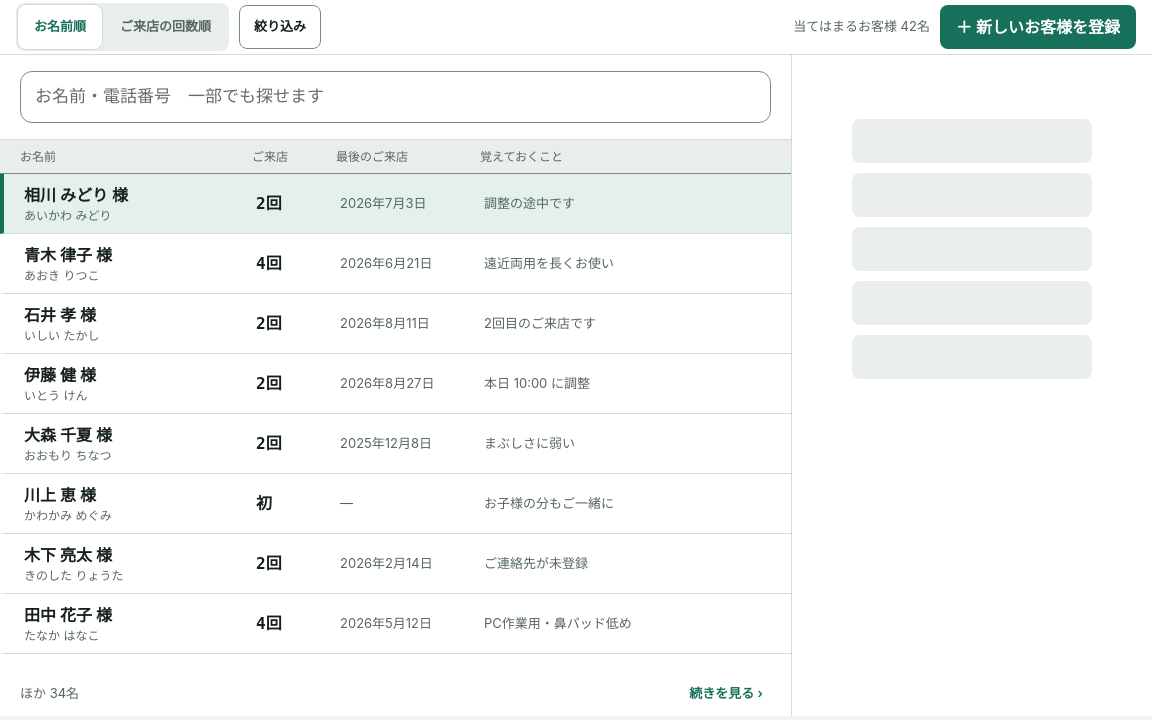
検索 › 「1234」では残らない
Type "1234" into the search field named "お名前・電話番号　一部でも探せます" at x=396, y=97, box 20,71 -> 771,123
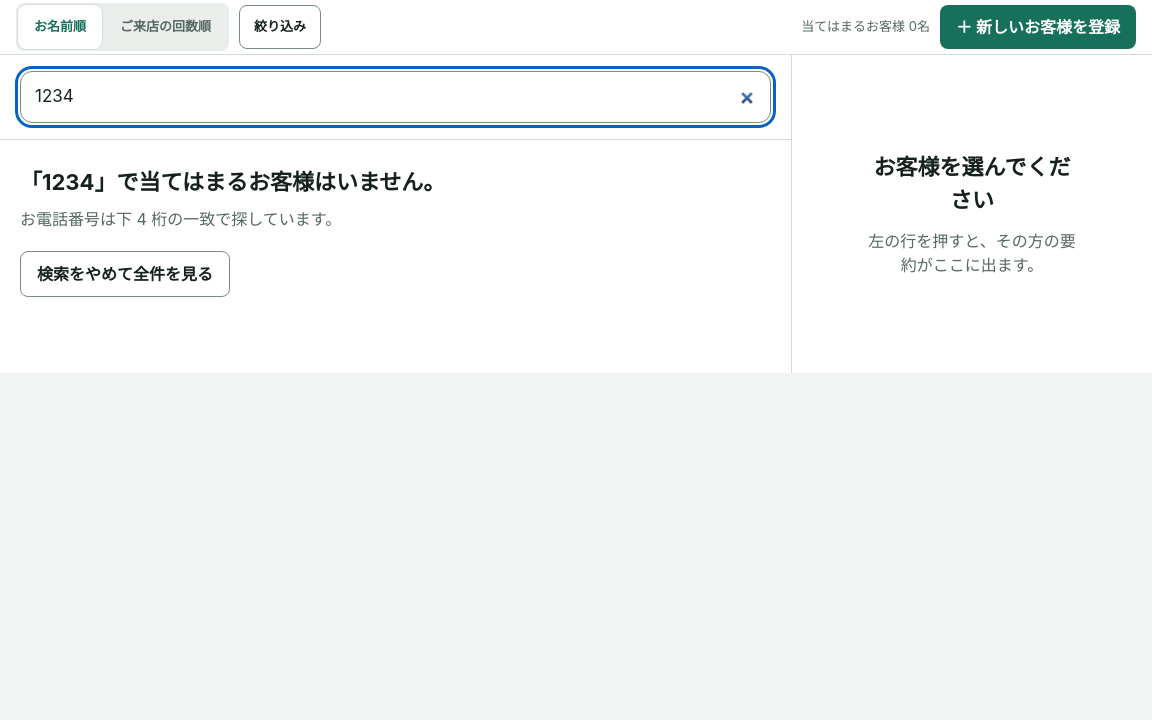
Expected: the option is gone
Expected: the option "田中 花子 様" is gone
